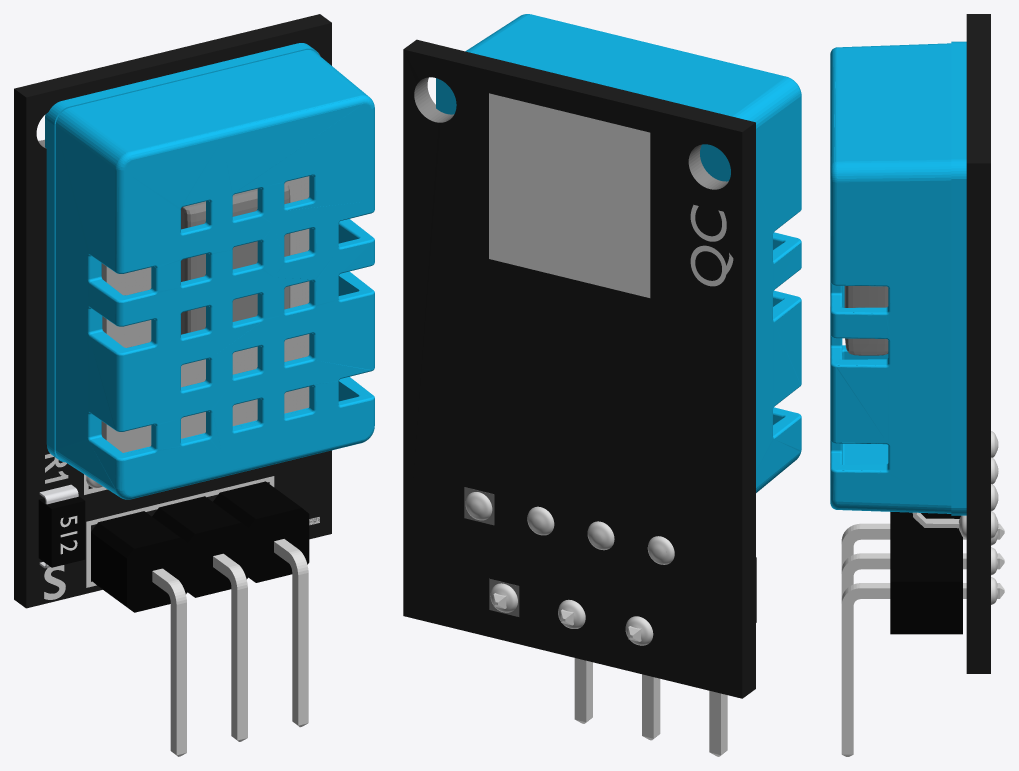
File: Tempraturesensor.fbx
3 views of the same model, side by side, from view 1: azimuth 30°, elevation 25°; view 2: azimuth 150°, elevation 25°; view 3: azimuth 270°, elevation 25° (orthographic). The views are drawn at different scales.
Parts seen in each view (by area): view 1: Plastico_azul_material, Plastico_azul_material.001, cor_placa_material, plastico_preto_material, cor_placa_material.001, metal_material, zinza_material, aluminio_material, plastico_preto_002_material, letras_material; view 2: cor_placa_material, Plane, Plastico_azul_material, Plastico_azul_material.001, cor_placa_material.001, metal_material, metal_material.001, aluminio_material.001, Text.001; view 3: Plastico_azul_material.001, Plastico_azul_material, cor_placa_material.001, plastico_preto_material, metal_material, aluminio_material, metal_material.001, pino_metal_material.
Part boxes in pixels (x1,y1,x2,y2): Plastico_azul_material: (45, 43, 374, 499); Plastico_azul_material.001: (55, 52, 374, 499); cor_placa_material: (26, 23, 331, 608); plastico_preto_material: (91, 481, 309, 612); cor_placa_material.001: (14, 14, 331, 607); metal_material: (152, 539, 308, 756); zinza_material: (101, 176, 309, 452); aluminio_material: (181, 182, 290, 334); plastico_preto_002_material: (38, 496, 85, 567); letras_material: (44, 474, 319, 599); cor_placa_material: (403, 49, 742, 698); Plane: (489, 93, 650, 297); Plastico_azul_material: (436, 14, 801, 492); Plastico_azul_material.001: (470, 14, 801, 492); cor_placa_material.001: (403, 39, 755, 698); metal_material: (493, 593, 727, 756); metal_material.001: (465, 492, 674, 645); aluminio_material.001: (414, 77, 728, 189); Text.001: (690, 204, 733, 286); Plastico_azul_material.001: (830, 47, 951, 513); Plastico_azul_material: (830, 41, 966, 515); cor_placa_material.001: (966, 14, 990, 673); plastico_preto_material: (890, 512, 962, 634); metal_material: (841, 523, 1004, 756); aluminio_material: (844, 286, 888, 355); metal_material.001: (959, 431, 998, 604); pino_metal_material: (912, 512, 959, 528).
Size of the model in its own units: 25.03 by 49.87 by 12.36.
